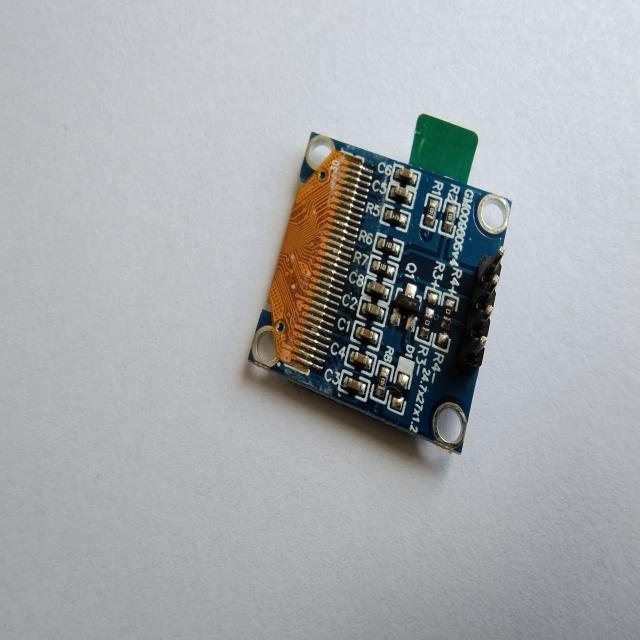oled: (258, 112, 522, 475)
